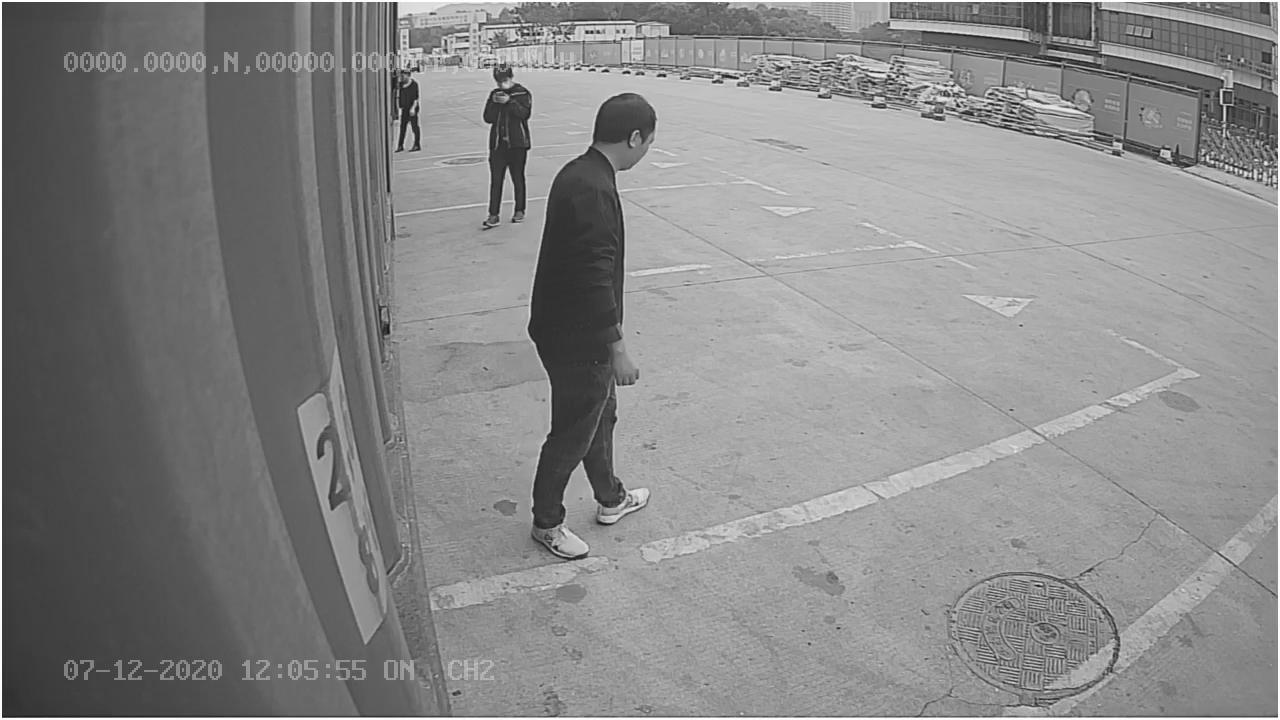person: (528, 93, 676, 562)
